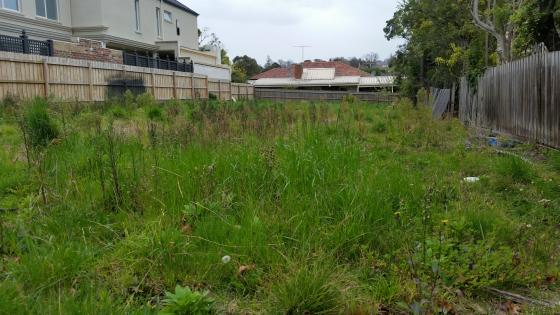overgrown grass: (0, 102, 559, 314)
